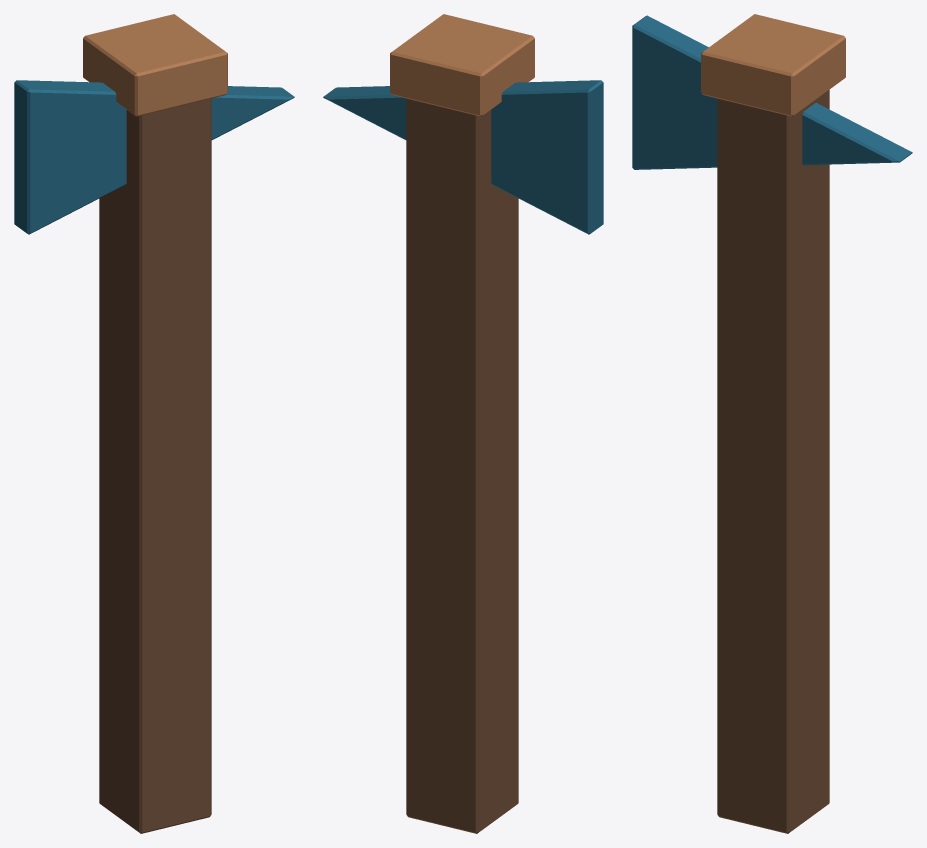
The model's file is flag_triangle_01.glb.
3 views of the same model, side by side, from view 1: azimuth 30°, elevation 25°; view 2: azimuth 150°, elevation 25°; view 3: azimuth 330°, elevation 25° (orthographic).
Parts seen in each view (by area): view 1: flag_triangle_01; view 2: flag_triangle_01; view 3: flag_triangle_01.
Part boxes in pixels (box(x1,y1,x2,y2)): flag_triangle_01: box(14, 14, 294, 833); flag_triangle_01: box(323, 14, 603, 833); flag_triangle_01: box(632, 14, 912, 833).
Size of the model in its own units: 0.5161 by 1.41 by 0.18.
